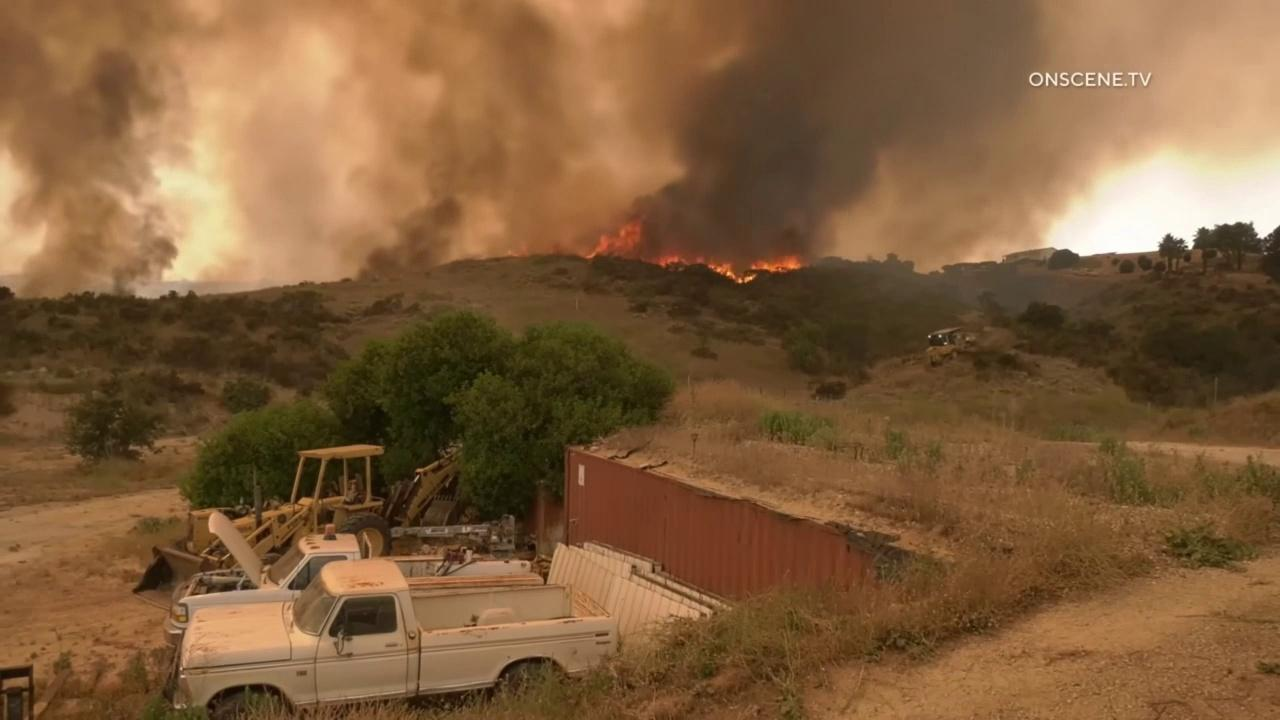fire: (657, 252, 808, 284), (584, 217, 642, 263), (504, 241, 529, 259)
smoke: (0, 0, 1280, 298)
